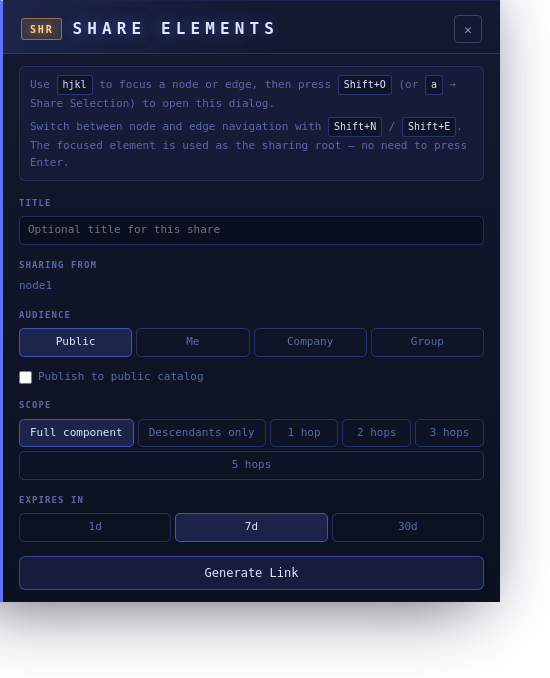
it: ElementShareDialog – title and catalog › hides the catalog checkbox when audience is not public
This screenshot has width=550, height=678.
What coordinates should you click on to do the following:
click the button "Company"
I would click on:
 (310, 343)
Its box is left=254, top=328, right=367, bottom=357.
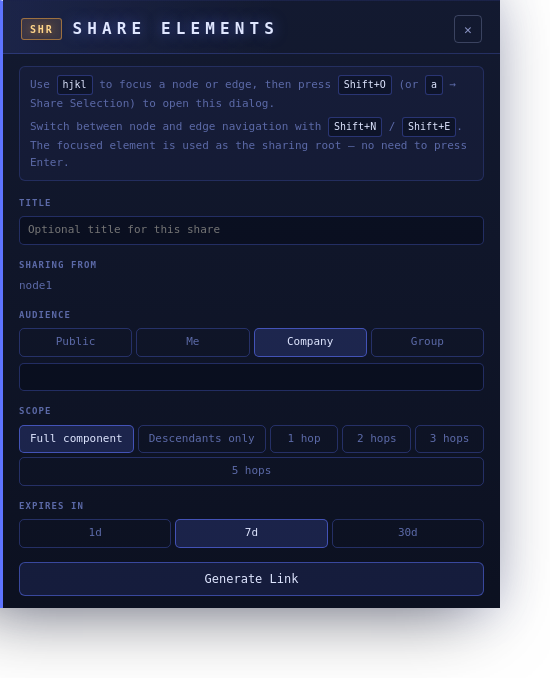
Now the checkbox with test id "catalog-checkbox" is gone
